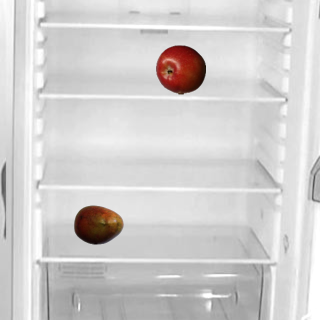Apple Braeburn: (155, 44, 205, 94)
Mango Red: (73, 199, 123, 249)
